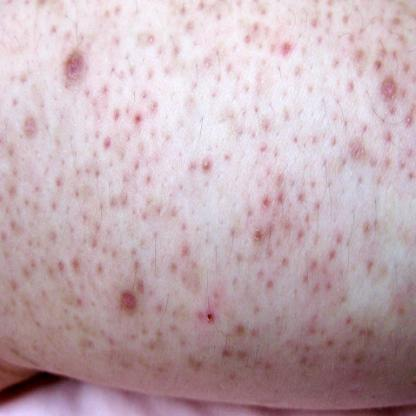Chicken Skin: (1, 1, 416, 390)
